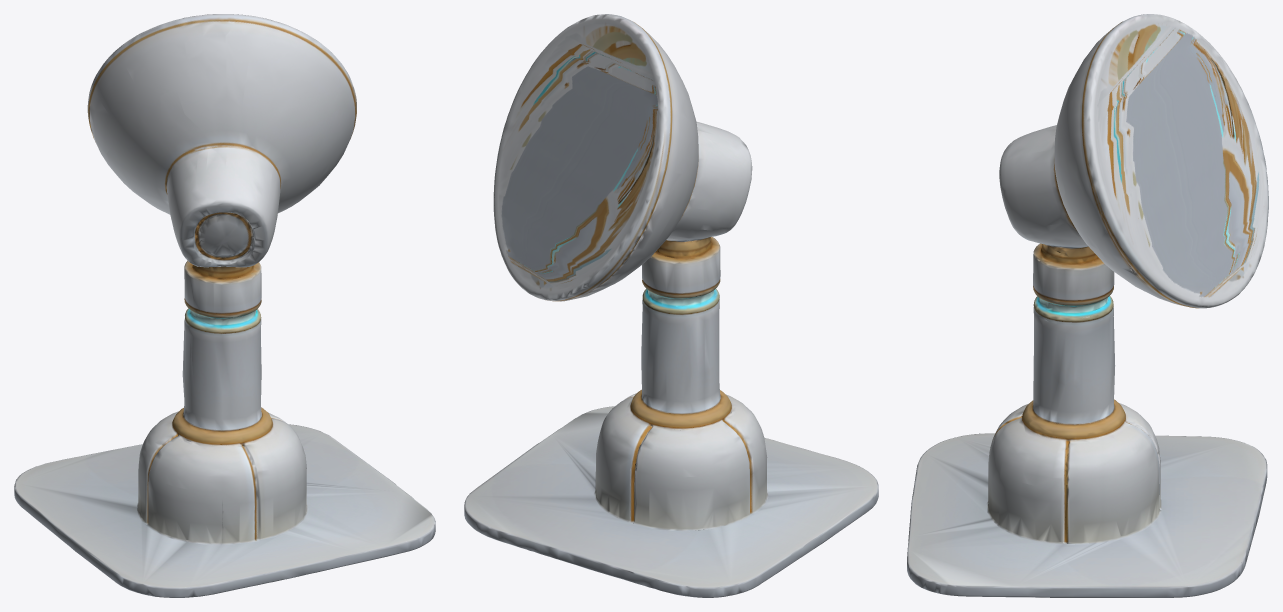
3 views of the same model, side by side, from view 1: azimuth 30°, elevation 25°; view 2: azimuth 150°, elevation 25°; view 3: azimuth 270°, elevation 25° (orthographic). The views are drawn at different scales.
Parts seen in each view (by area): view 1: repaired; view 2: repaired; view 3: repaired.
Boxes of the visible parts, x1,y1,x2,y2 form: repaired: (14, 14, 435, 597); repaired: (464, 14, 878, 597); repaired: (907, 14, 1268, 597).
Bounding box in the file's own units: 0.6556 × 0.9994 × 0.6469.
1 material, 1 textured.
